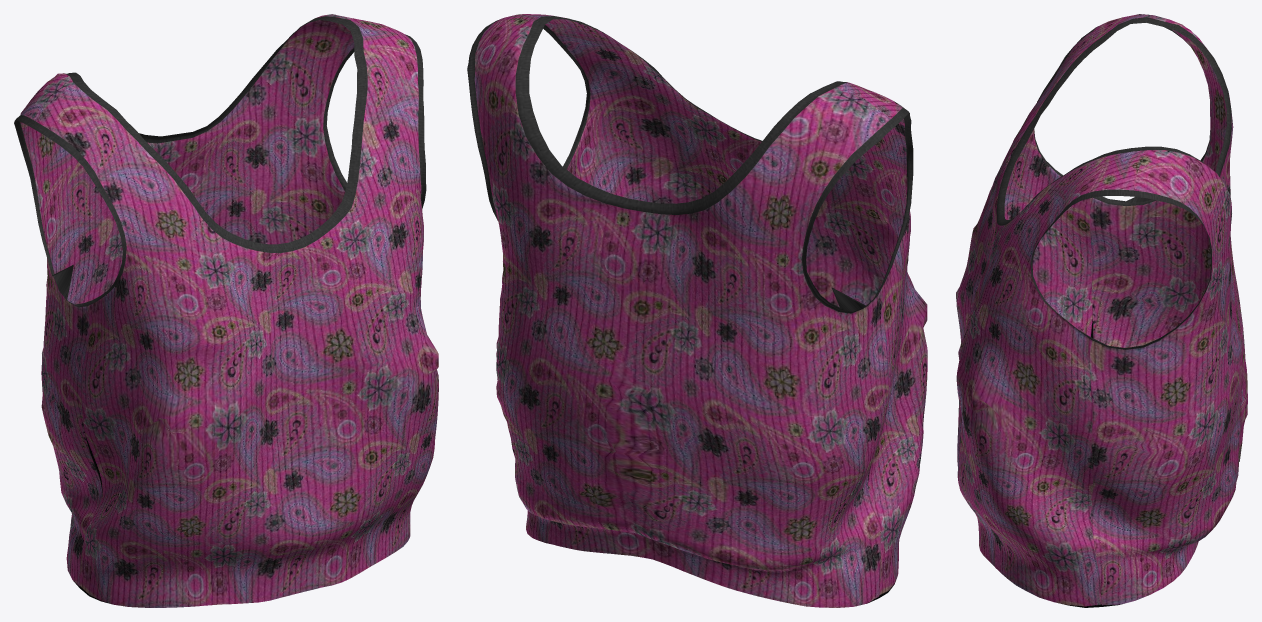
The model's file is top_camisole.gltf.
The picture shows the model from 3 angles, left to right: view 1: azimuth 30°, elevation 25°; view 2: azimuth 150°, elevation 25°; view 3: azimuth 270°, elevation 25°; orthographic projection. The views are drawn at different scales.
Visible parts, largest first — view 1: top_camisole; view 2: top_camisole; view 3: top_camisole.
Boxes of the visible parts, <box> form: top_camisole: <box>14,14,438,607</box>; top_camisole: <box>467,14,927,607</box>; top_camisole: <box>956,14,1247,607</box>.
Size of the model in its own units: 0.3657 by 0.4465 by 0.2583.
Materials: 1 (1 with a texture image).
